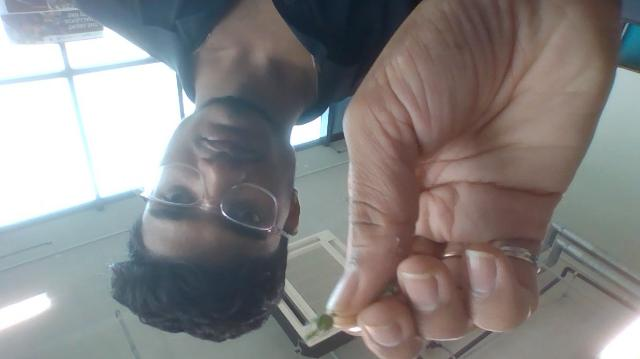Fruit Bud: (317, 314, 333, 331)
